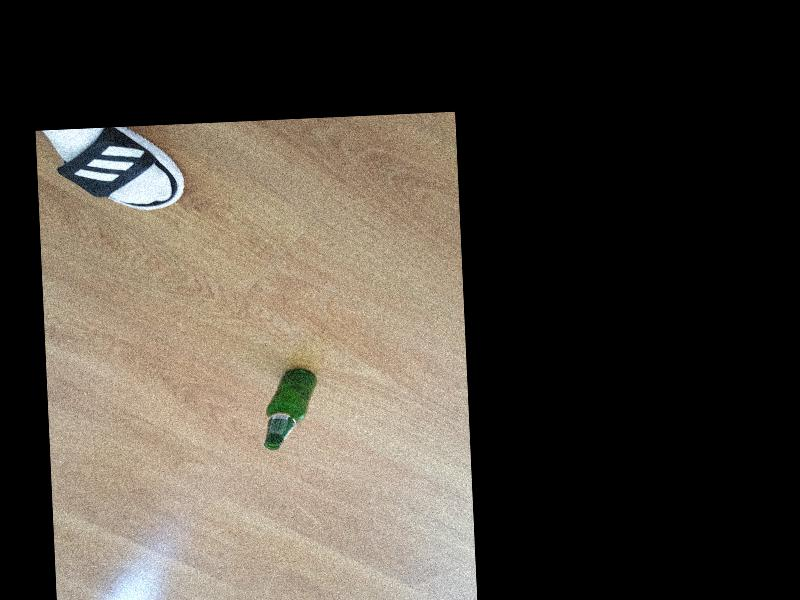Beer: (261, 367, 317, 448)
